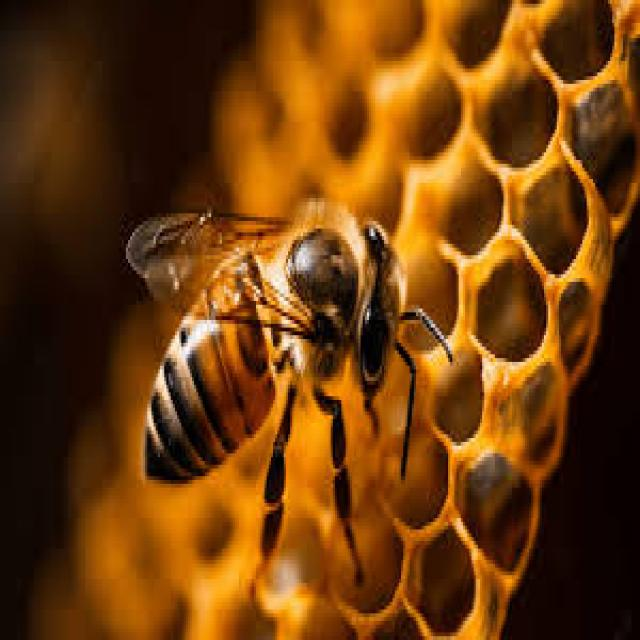Bees: (124, 213, 455, 591)
